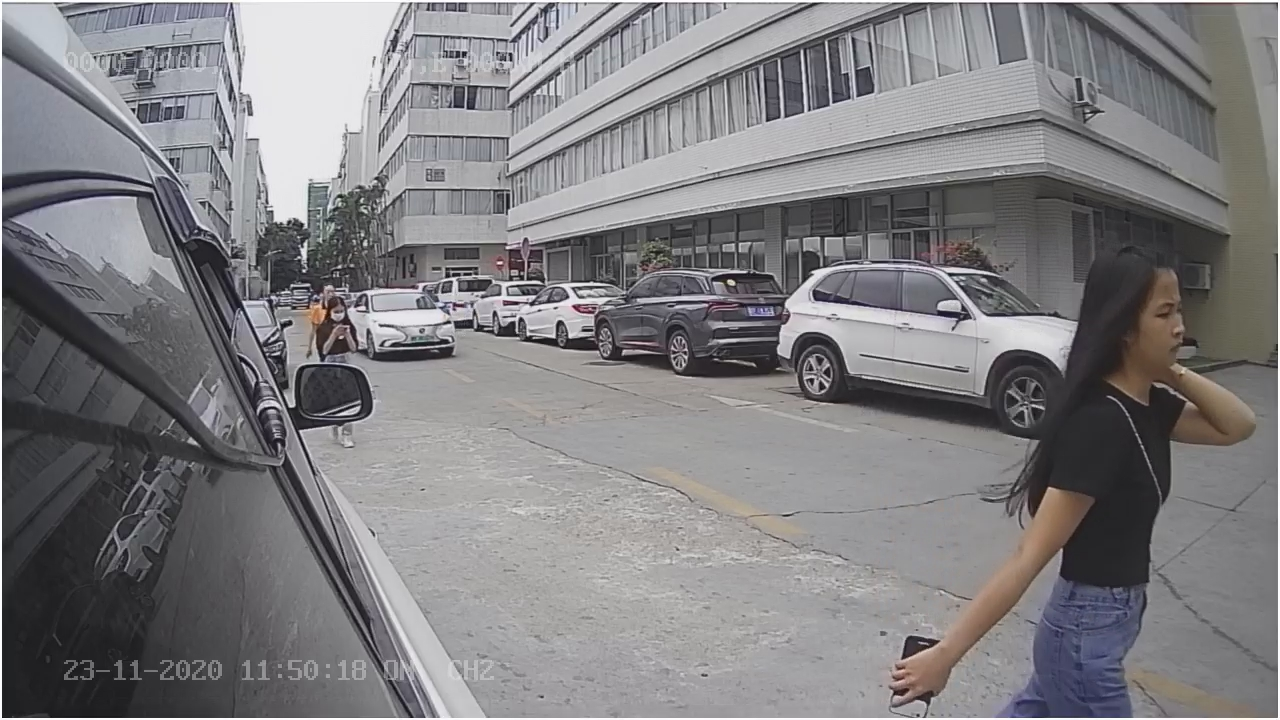person: (1019, 249, 1258, 533)
